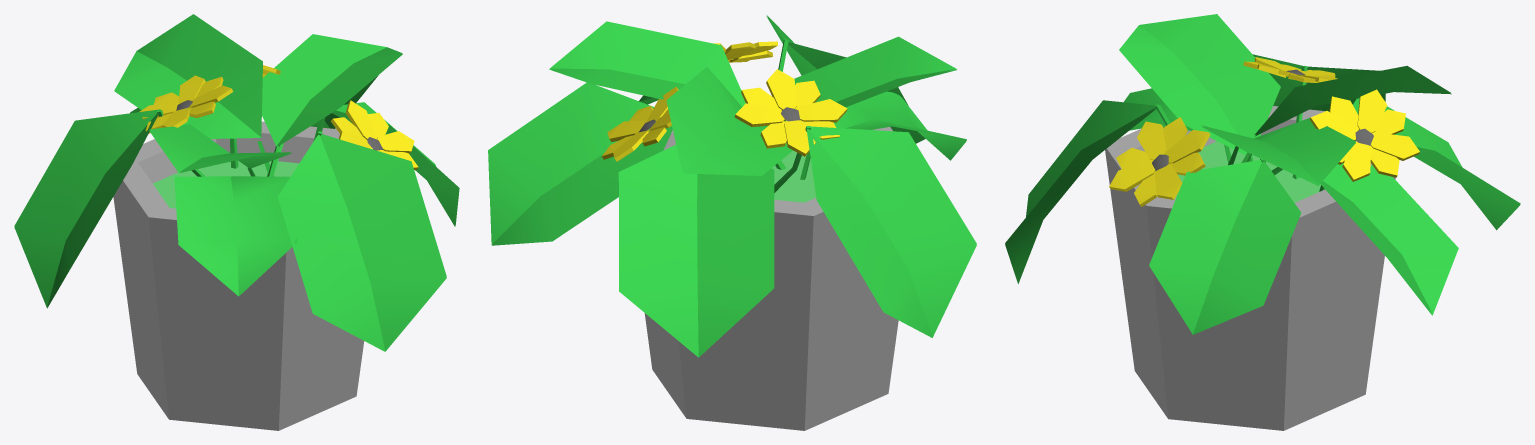
File: Macetero02.fbx
3 renders of one model, left to right at view 1: azimuth 30°, elevation 25°; view 2: azimuth 150°, elevation 25°; view 3: azimuth 270°, elevation 25°, orthographic. The views are drawn at different scales.
Parts seen in each view (by area): view 1: Macetero02; view 2: Macetero02; view 3: Macetero02.
Part boxes in pixels (bbox=[...]): Macetero02: bbox=[14, 14, 459, 430]; Macetero02: bbox=[488, 15, 976, 430]; Macetero02: bbox=[1005, 14, 1520, 430].
Bounding box in the file's own units: 41.41 × 32.34 × 46.1.
